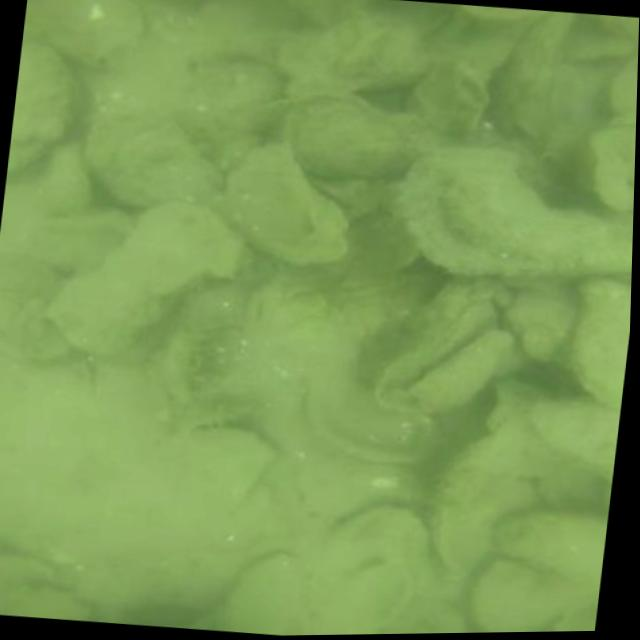Oyster-Closed: (318, 384, 441, 463), (417, 64, 489, 131)
Oyster-Indeterminate: (393, 147, 632, 277), (48, 200, 240, 351), (428, 418, 537, 573), (222, 140, 353, 267), (381, 282, 503, 413), (84, 115, 218, 205), (281, 17, 426, 92), (286, 97, 417, 177), (515, 397, 618, 484), (211, 552, 314, 635), (409, 332, 508, 412), (165, 428, 276, 498), (31, 0, 138, 70), (573, 279, 631, 408), (469, 559, 567, 632), (495, 510, 601, 575), (507, 286, 575, 379), (21, 43, 70, 167), (590, 134, 634, 207), (0, 584, 84, 619), (387, 600, 460, 634), (611, 60, 638, 115), (593, 15, 639, 38)
